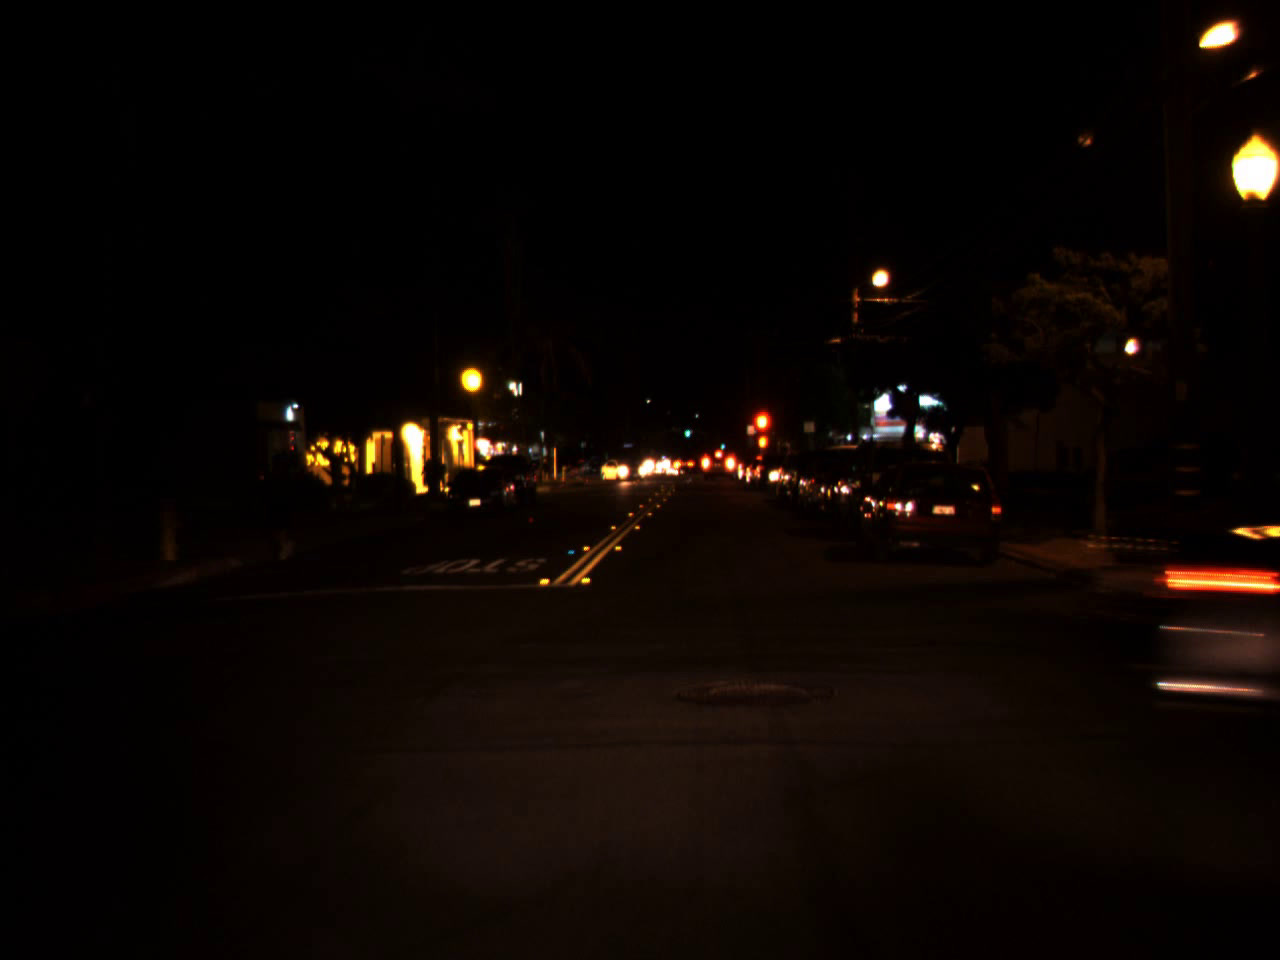go: (683, 421, 692, 439), (719, 439, 726, 451)
stop: (750, 409, 774, 452)
